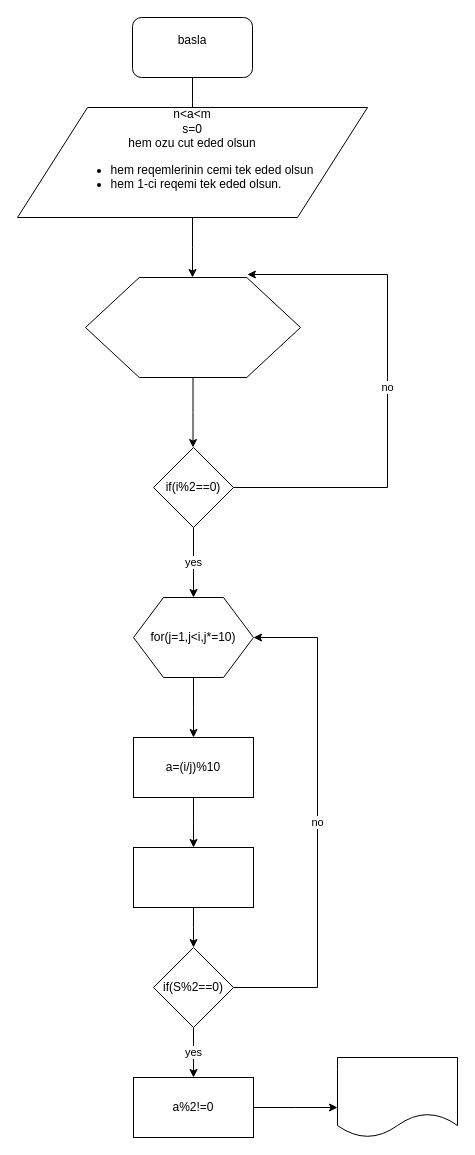
Image size: 475x1155. Some labels were removed from this diagram. The shapes that lost their labels are listed below. From the top down, each one's centre as x and y in pixels, then its label:
point (192, 327): i=n,i<m,i++
point (193, 877): S=S+a
point (397, 1097): son
